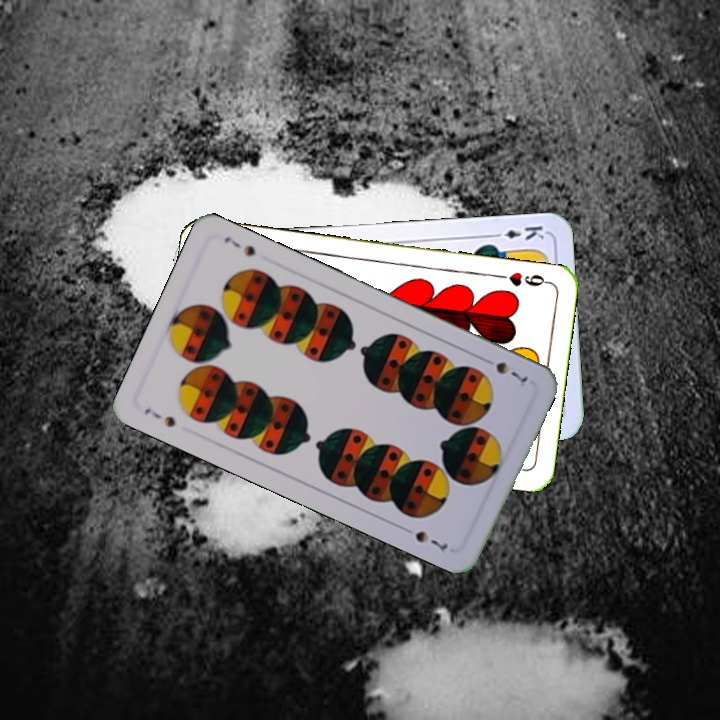EK: (487, 221, 547, 242)
H9: (493, 268, 552, 289)
S7: (478, 353, 531, 386), (140, 404, 178, 430)
